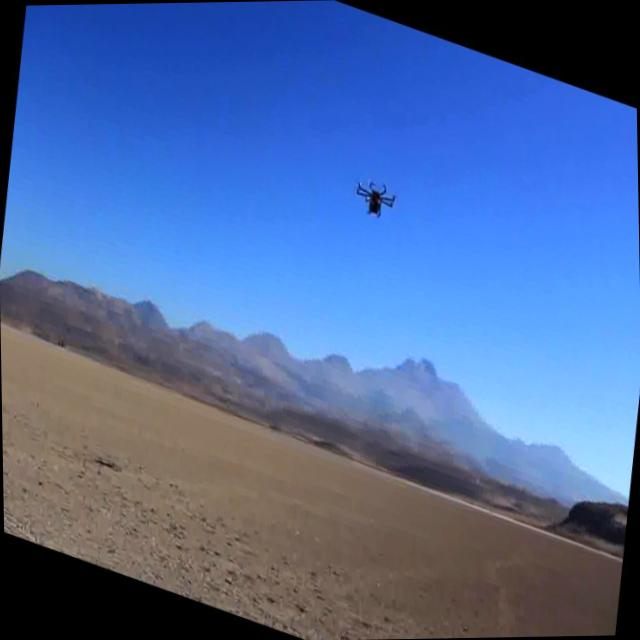drone: (348, 166, 400, 230)
